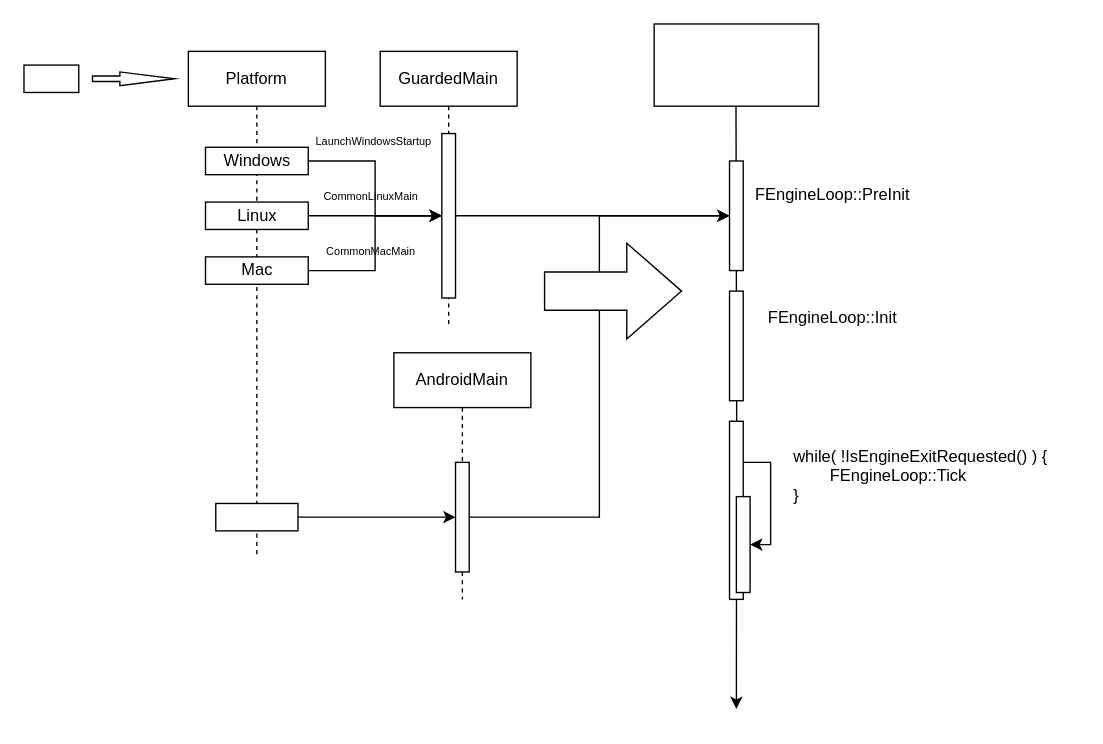
Image size: 1103x744. Some labels were removed from this diagram. The centre of each missing label's shape, as x and y in pixels:
Android: the point at 256,516
EngineLoop: the point at 736,64
启动: the point at 51,78
